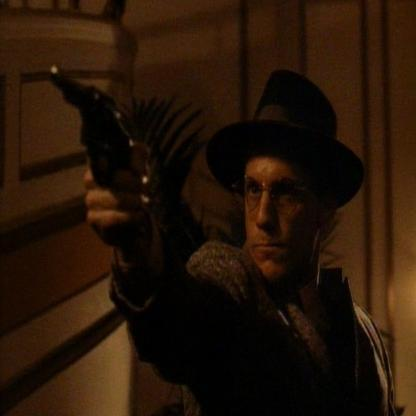gun: (48, 47, 141, 241)
